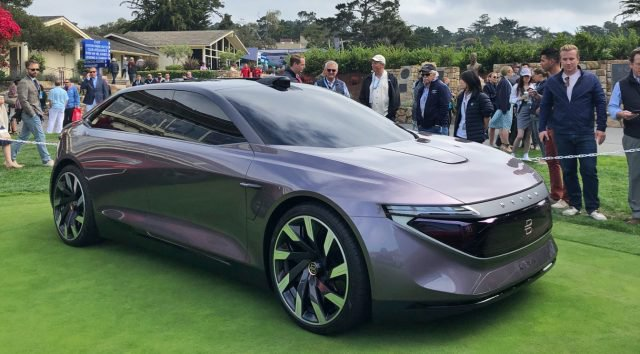car: (52, 77, 559, 331)
